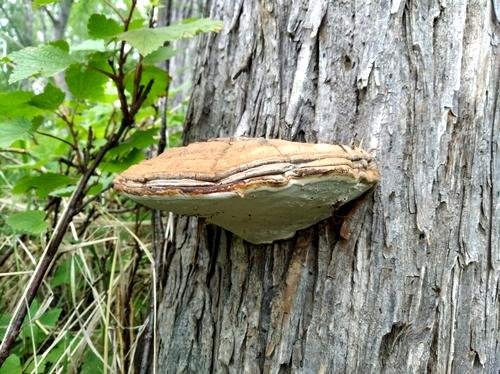Ganoderma - Fruit Body: (100, 129, 380, 248)
